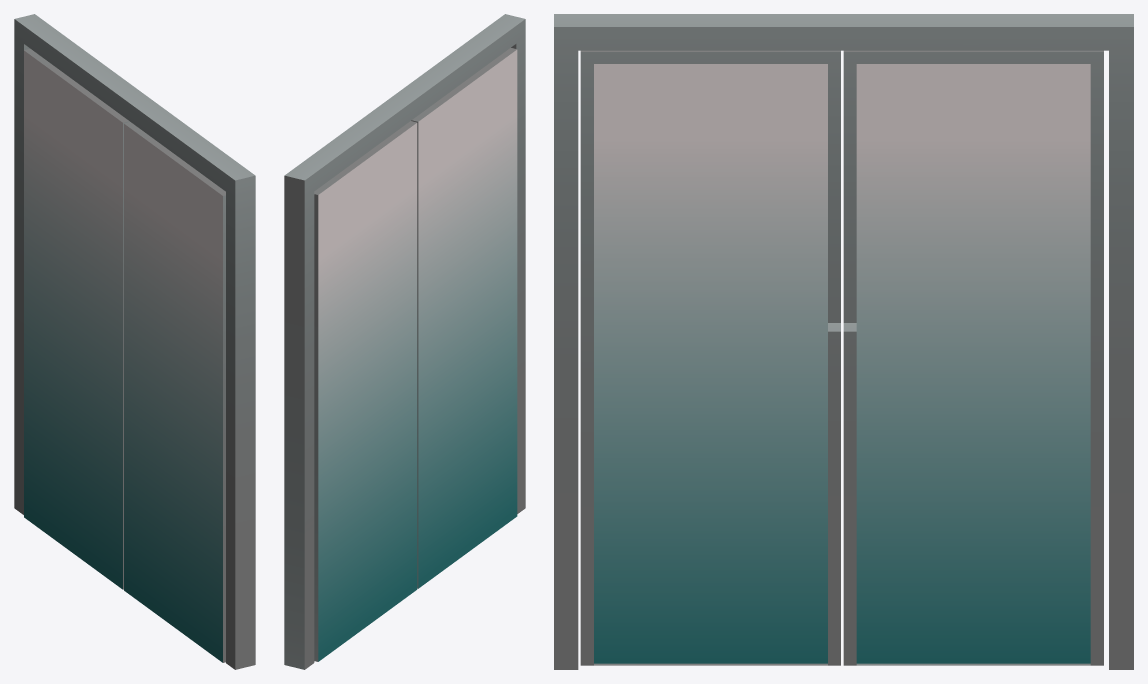
Rendered from Door_OBJ.fbx.
3 views of the same model, side by side, from view 1: azimuth 30°, elevation 25°; view 2: azimuth 150°, elevation 25°; view 3: azimuth 270°, elevation 25° (orthographic). The views are drawn at different scales.
Parts seen in each view (by area): view 1: pCube15; view 2: pCube15; view 3: pCube15.
Boxes of the visible parts, box(x1,y1,x2,y2) form: pCube15: box(14, 14, 255, 669); pCube15: box(284, 14, 525, 669); pCube15: box(554, 14, 1133, 669).
Size of the model in its own units: 0.8401 by 13.62 by 11.14.
